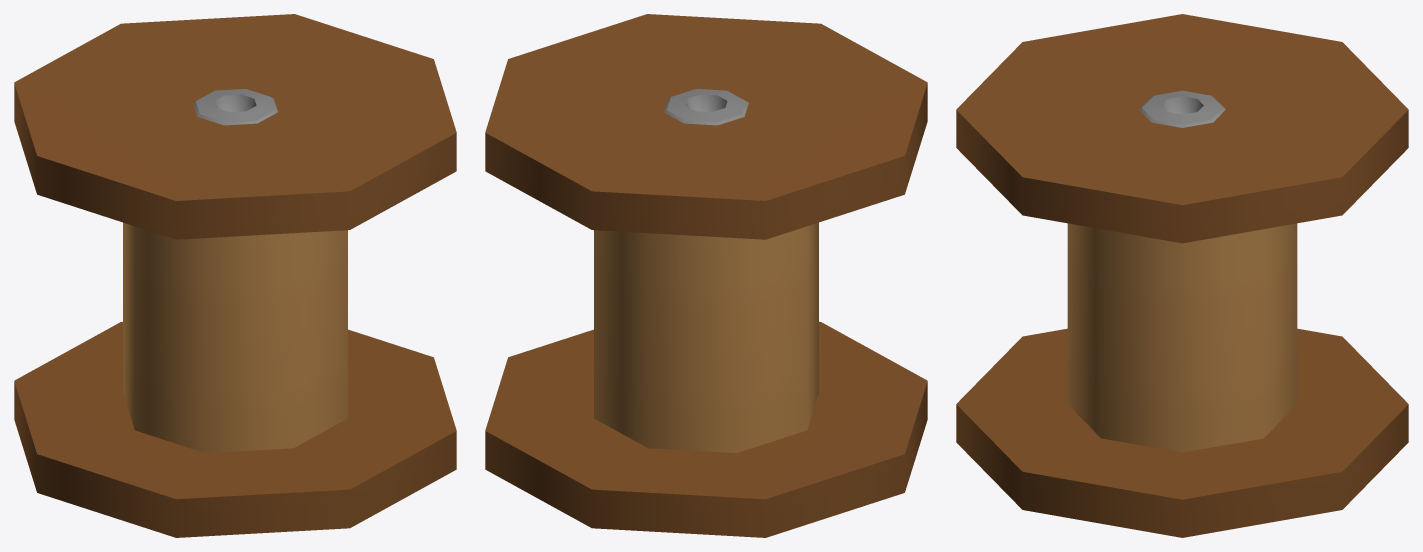
File: Spool_Empty.fbx
3 renders of one model, left to right at view 1: azimuth 30°, elevation 25°; view 2: azimuth 150°, elevation 25°; view 3: azimuth 270°, elevation 25°, orthographic.
Visible parts, largest first — view 1: Spool_Empty; view 2: Spool_Empty; view 3: Spool_Empty.
Part boxes in pixels (box(x1,y1,x2,y2)): Spool_Empty: box(14, 14, 456, 537); Spool_Empty: box(485, 14, 927, 537); Spool_Empty: box(956, 14, 1408, 537).
Size of the model in its own units: 121 by 100 by 121.
